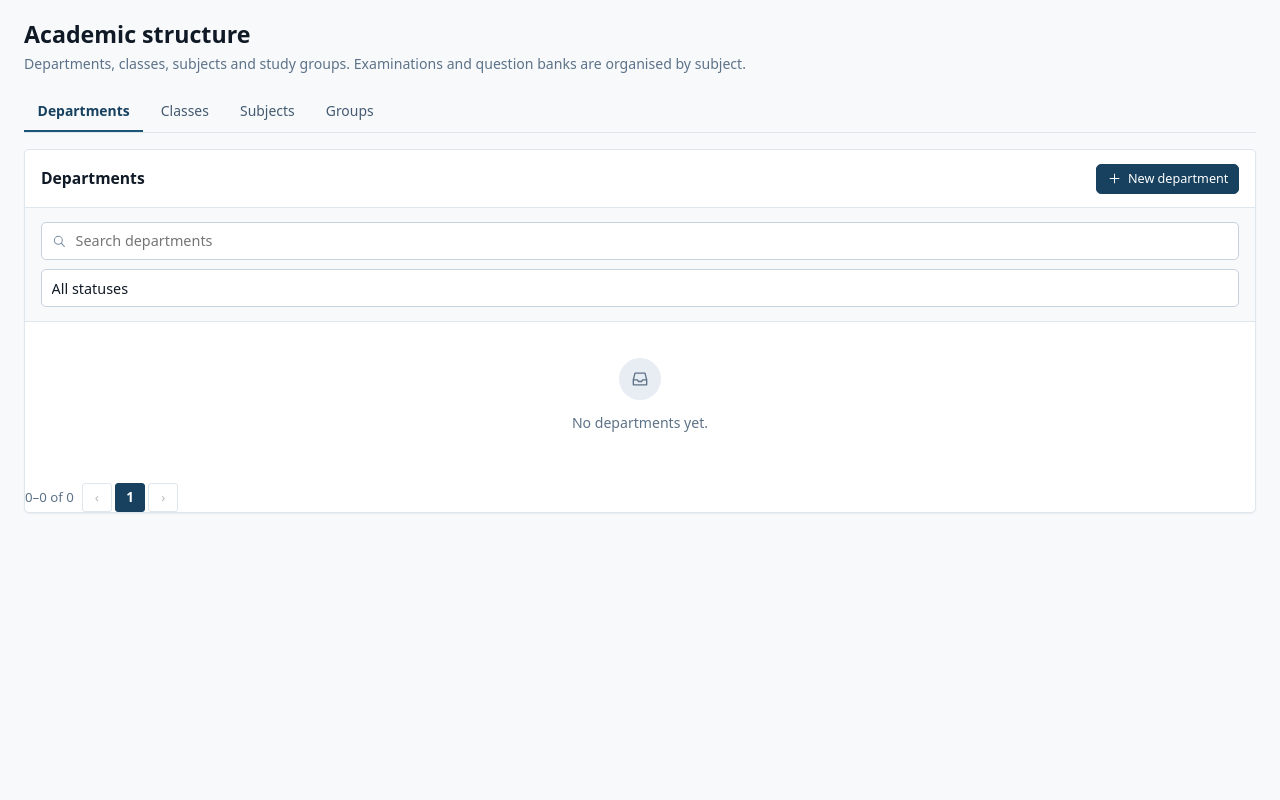
Scenario: group membership editing › opens a group that has no members without re-rendering forever
This screenshot has width=1280, height=800.
Click the tab "Groups": (350, 112) [312, 92, 387, 132]
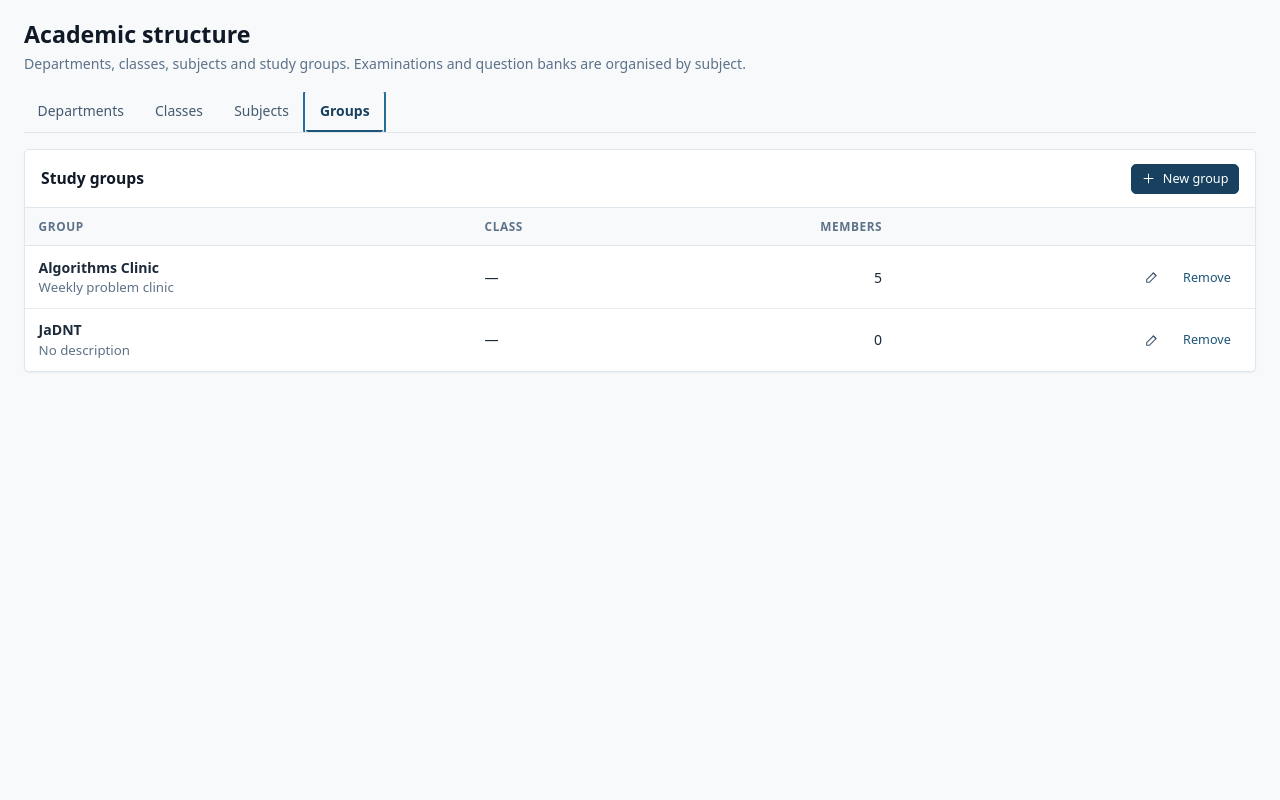
Click the button named "Edit JaDNT": (1152, 340) [1138, 325, 1167, 354]
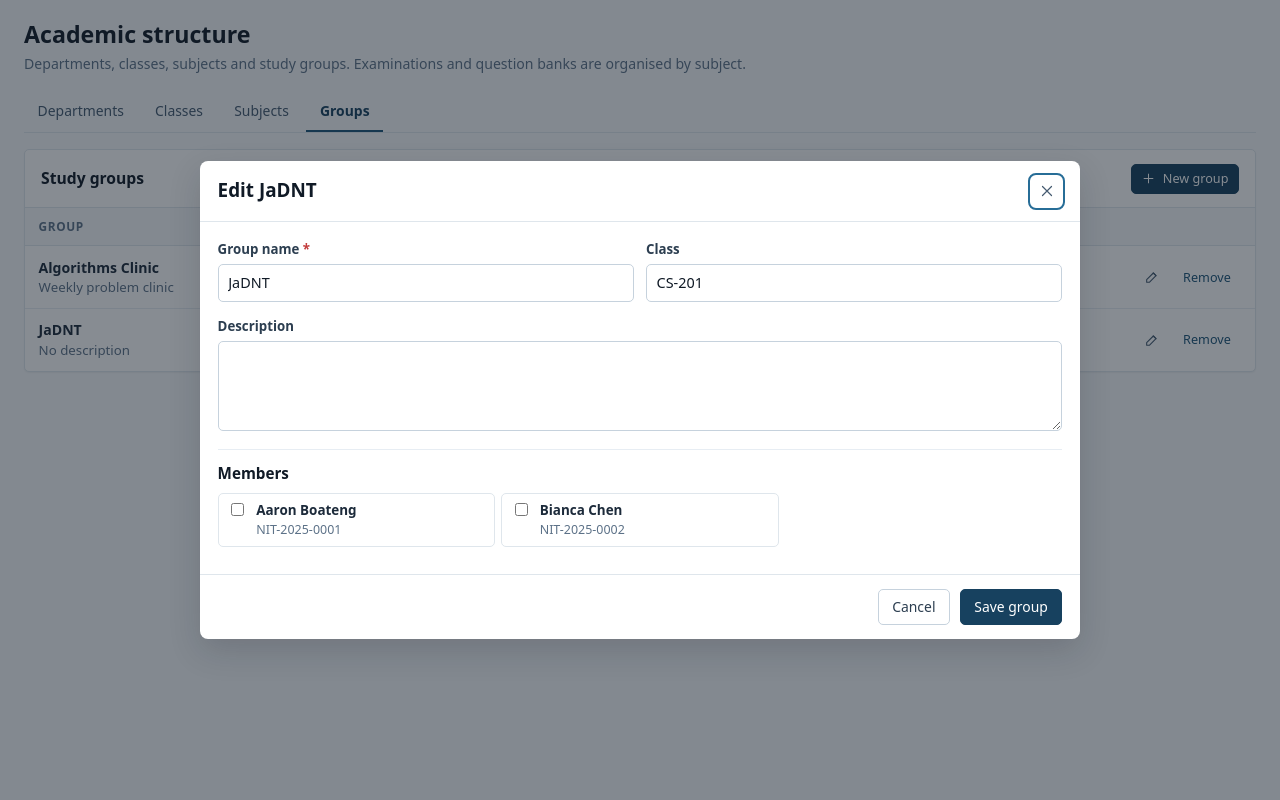
Expected: the field labelled "Group name" holds "JaDNT", [218, 264, 634, 302]
Expected: the number of checkboxes is 2, [231, 503, 244, 516]; [515, 503, 528, 516]
